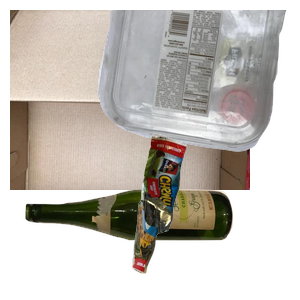cardboard: (10, 10, 250, 190)
glass: (23, 186, 249, 300)
plastic: (95, 10, 300, 154)
trash: (130, 131, 300, 300)
